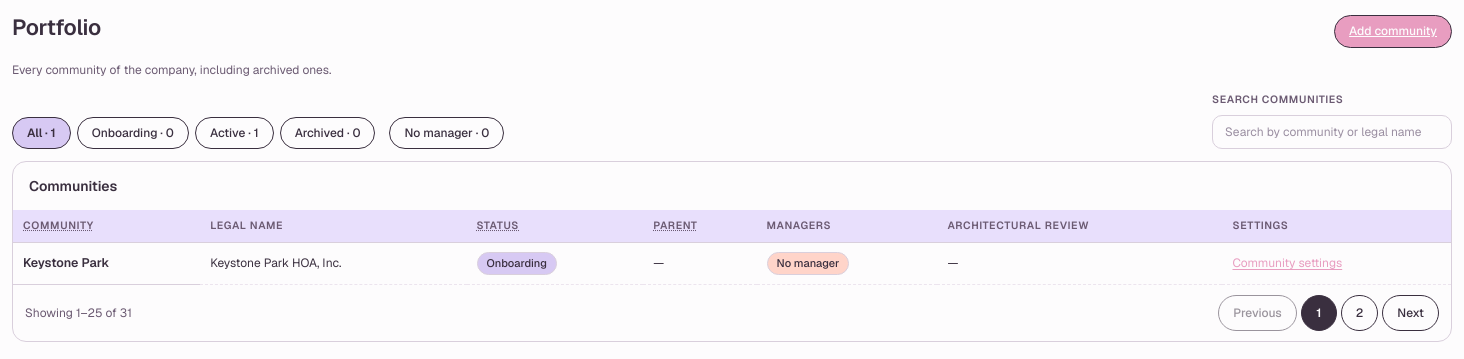
PortfolioComponent (030 T073, minimal) › pages 25 at a time and moves focus to the table heading
The width and height of the screenshot is (1464, 359).
Expected: the text "Showing 1–25 of 31" is shown, [25,305,132,322]
Click the button with aria-label "Next page".
click(1411, 314)  # box [1382,296,1439,332]
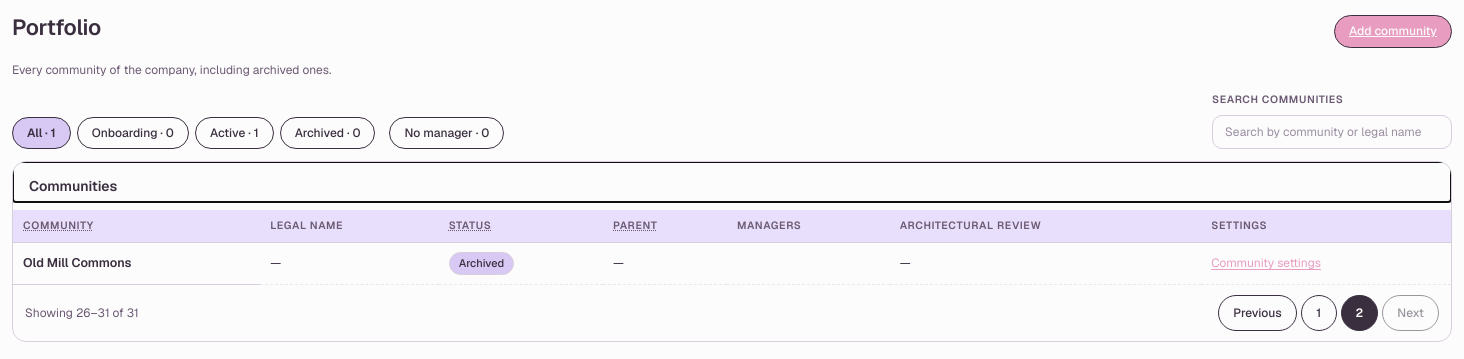
Result: the text "Showing 26–31 of 31" is shown at [25,305,139,322]
